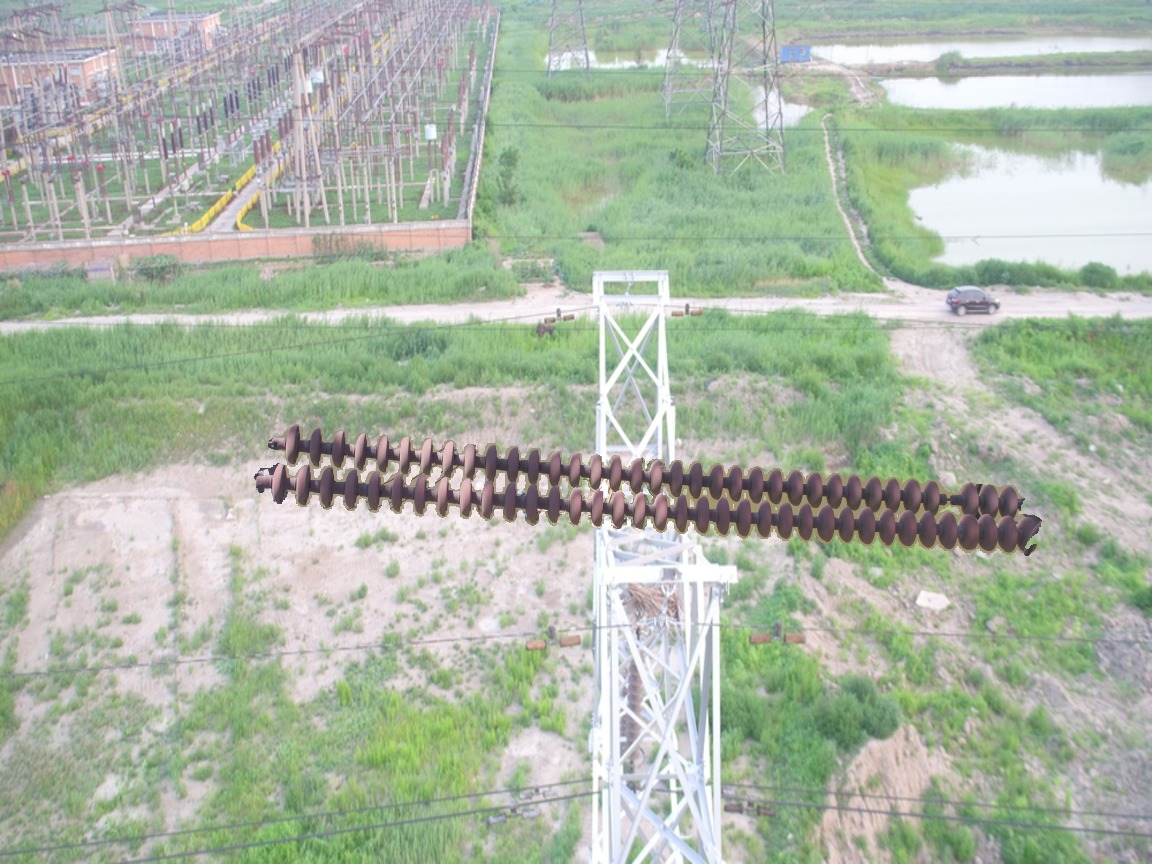defect: (919, 476, 984, 517)
